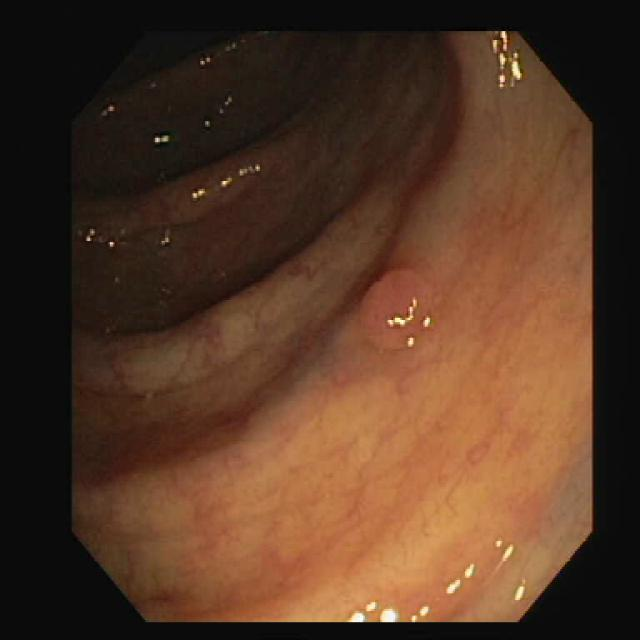tumor: (362, 269, 430, 349)
